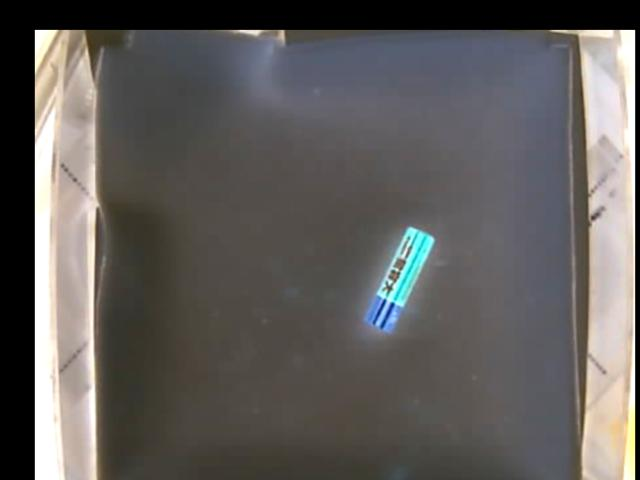Battery: (366, 224, 436, 327)
